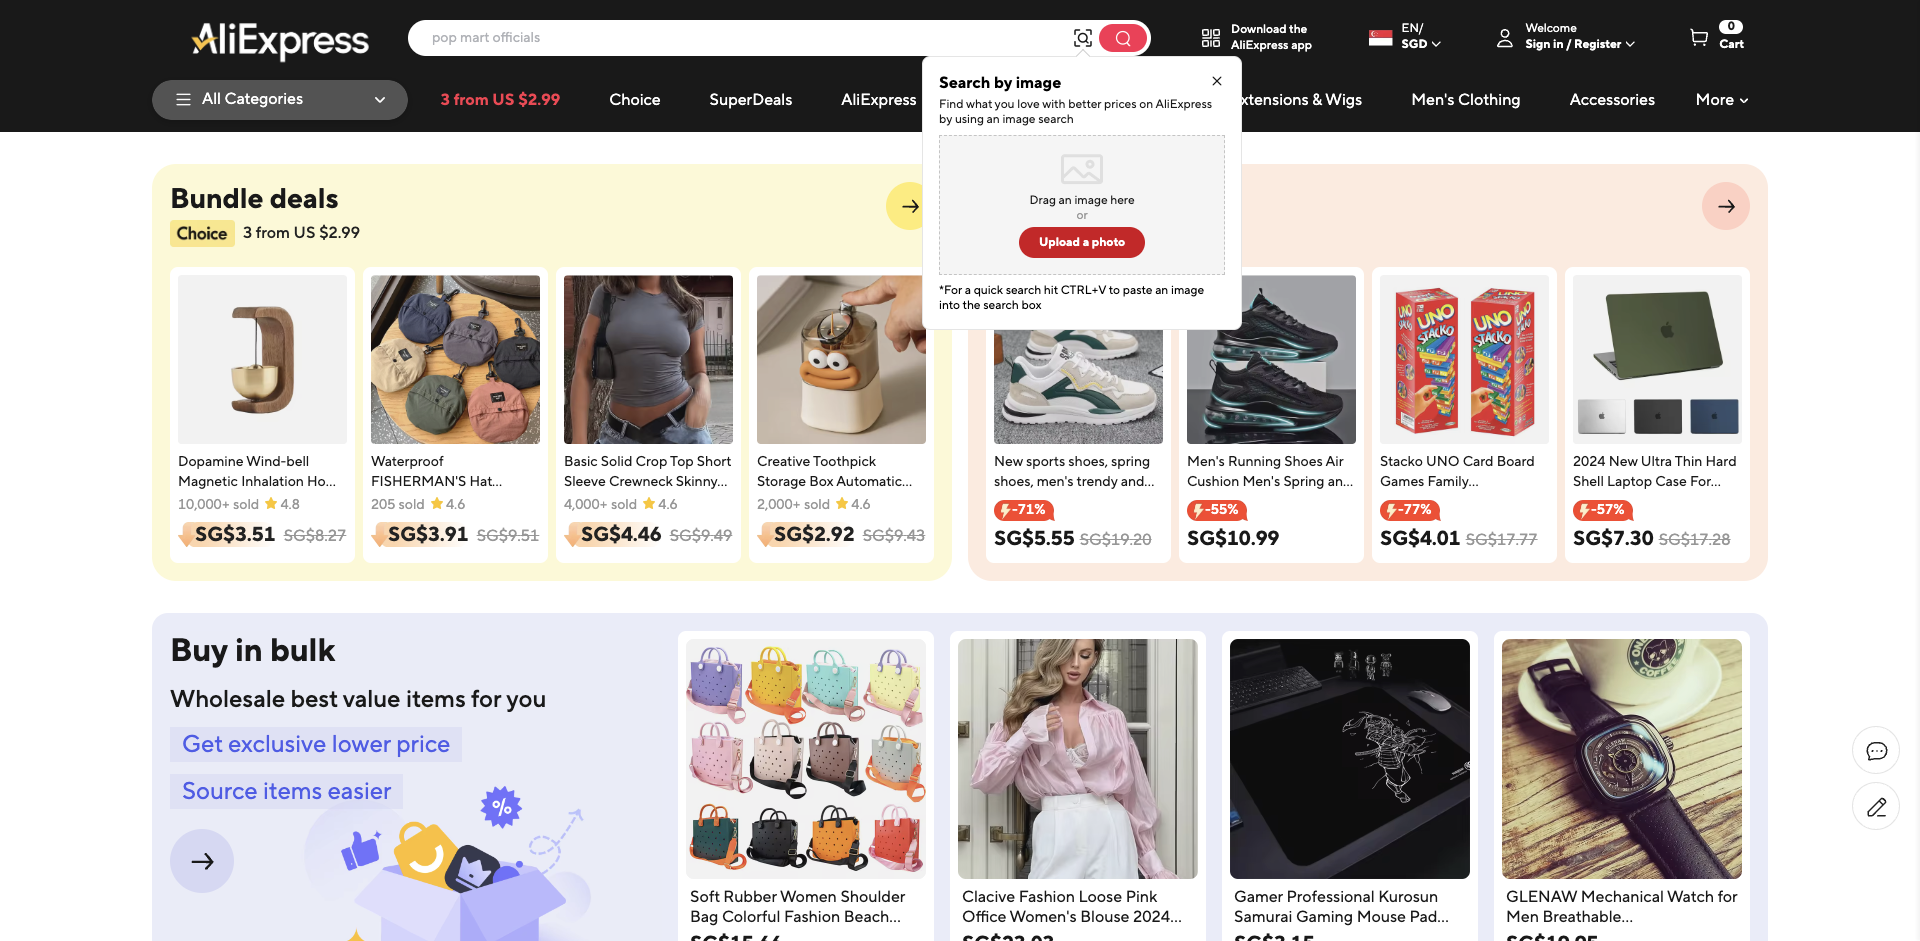button: (1019, 227, 1145, 259), (1100, 25, 1147, 51), (1071, 26, 1095, 55)
input: (422, 29, 1062, 47)
link: (170, 631, 662, 941), (686, 640, 926, 941), (958, 640, 1198, 941), (1229, 640, 1469, 941), (1502, 640, 1742, 941), (170, 183, 934, 248), (986, 183, 1750, 248), (994, 274, 1163, 551), (1187, 274, 1356, 551), (1380, 274, 1549, 551), (1573, 274, 1742, 551), (178, 274, 347, 546), (371, 274, 540, 546), (564, 274, 733, 546), (757, 274, 926, 546), (950, 274, 1119, 546), (1142, 274, 1311, 546), (1336, 274, 1505, 546), (1529, 274, 1698, 546), (1722, 274, 1891, 546), (1774, 640, 1920, 941), (1766, 274, 1920, 551), (718, 127, 1082, 168), (1352, 127, 1680, 168), (176, 9, 384, 72), (416, 127, 718, 168), (1082, 127, 1352, 168), (1173, 80, 1386, 120), (817, 80, 1008, 120), (416, 80, 585, 120), (1008, 80, 1173, 120), (1386, 80, 1545, 120), (1545, 80, 1680, 120), (684, 80, 817, 120), (585, 80, 684, 120), (1851, 725, 1900, 774), (1687, 23, 1744, 53), (1915, 274, 1920, 546)
